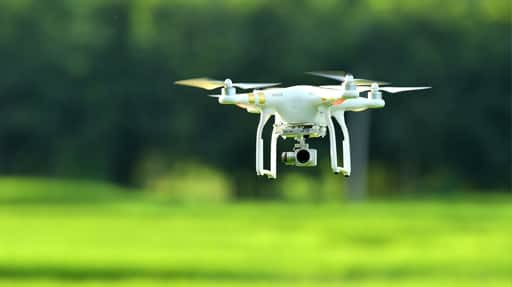maybay_khongnguoilai: (177, 70, 425, 178)
